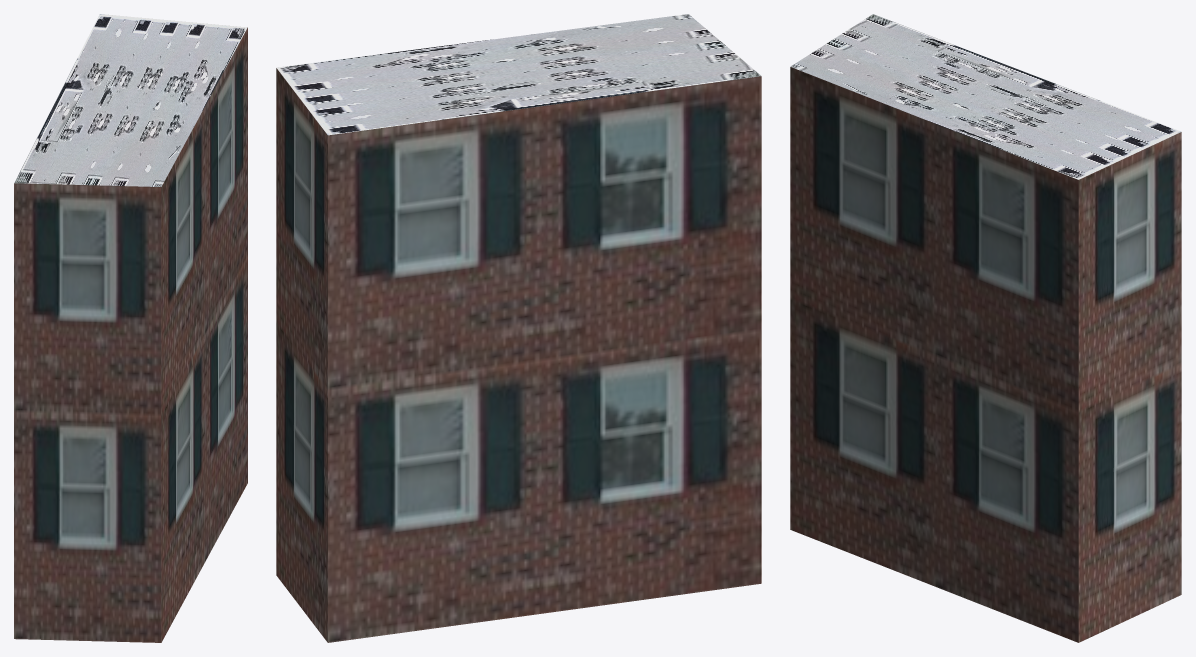
The model's file is ResTex__4527.fbx.
3 views of the same model, side by side, from view 1: azimuth 30°, elevation 25°; view 2: azimuth 150°, elevation 25°; view 3: azimuth 270°, elevation 25° (orthographic). The views are drawn at different scales.
Visible parts, largest first — view 1: CityEngineMaterial_14_m, CityEngineMaterial_8_m; view 2: CityEngineMaterial_14_m, CityEngineMaterial_8_m; view 3: CityEngineMaterial_14_m, CityEngineMaterial_8_m.
Boxes of the visible parts, x1=… form: CityEngineMaterial_14_m: x1=14, y1=27, x2=247, y2=642; CityEngineMaterial_8_m: x1=14, y1=14, x2=247, y2=186; CityEngineMaterial_14_m: x1=276, y1=68, x2=761, y2=642; CityEngineMaterial_8_m: x1=276, y1=14, x2=761, y2=135; CityEngineMaterial_14_m: x1=790, y1=67, x2=1181, y2=642; CityEngineMaterial_8_m: x1=790, y1=14, x2=1181, y2=179.
Size of the model in its own units: 4.61 by 6 by 4.6.
Materials: 2 (2 with a texture image).
